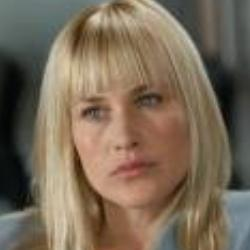face: (24, 1, 233, 222)
